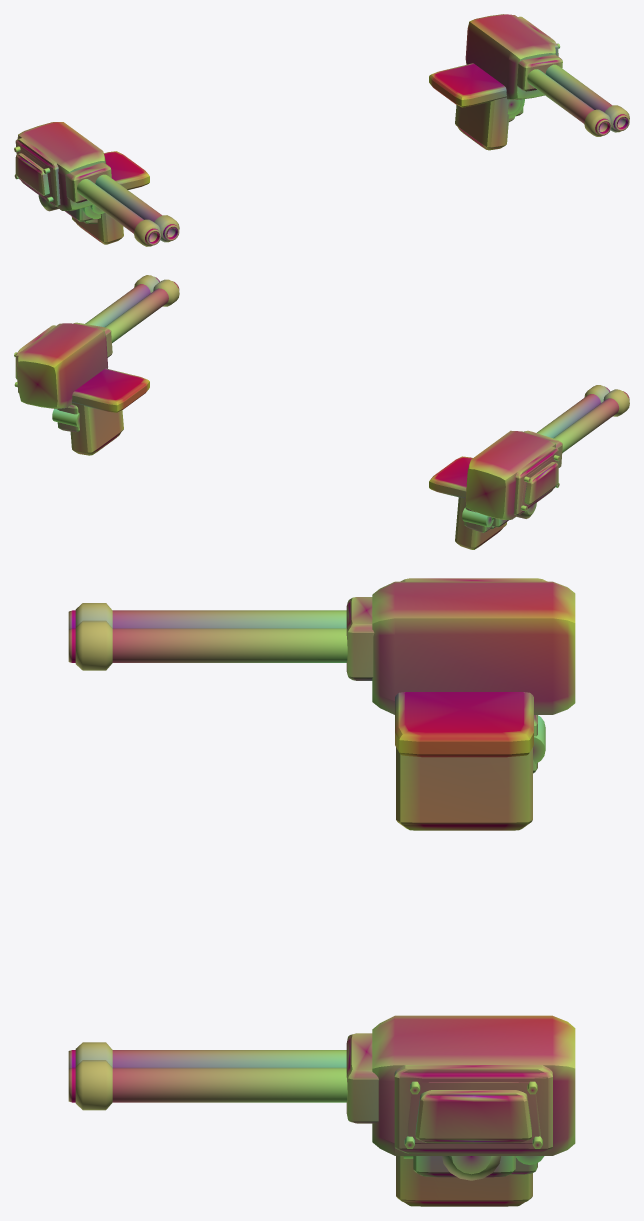
Rendered from llm_gen_shoulder_pods_085_223267.glb.
The picture shows the model from 3 angles, top to bottom: view 1: azimuth 30°, elevation 25°; view 2: azimuth 150°, elevation 25°; view 3: azimuth 270°, elevation 25°; orthographic projection. The views are drawn at different scales.
Visible parts, largest first — view 1: adapter_shoulder_yoke_r, cannon_cradle_1_adapter_dark_r, cannon_cradle_1_adapter_dark_l, adapter_shoulder_yoke_l, beam_barrel_out_4_barrel_metal_l, beam_barrel_in_3_barrel_metal_r, beam_barrel_in_3_barrel_metal_l, beam_barrel_out_4_barrel_metal_r, cannon_side_shroud_blue_8_cobalt_anodized_l, adapter_sub_heatsink_bezel_dark_7_adapter_dark_l, adapter_sub_mantlet_dark_2_adapter_dark_l, adapter_sub_mantlet_dark_2_adapter_dark_r (+4 smaller); view 2: cannon_cradle_1_adapter_dark_r, cannon_cradle_1_adapter_dark_l, adapter_shoulder_yoke_r, adapter_shoulder_yoke_l, beam_barrel_out_4_barrel_metal_l, beam_barrel_in_3_barrel_metal_r, cannon_side_shroud_blue_8_cobalt_anodized_l, beam_barrel_in_3_barrel_metal_l, beam_barrel_out_4_barrel_metal_r, adapter_sub_heatsink_bezel_dark_7_adapter_dark_l; view 3: cannon_cradle_1_adapter_dark_l, adapter_shoulder_yoke_l, cannon_cradle_1_adapter_dark_r, beam_barrel_out_4_barrel_metal_r, beam_barrel_in_3_barrel_metal_l, cannon_side_shroud_blue_8_cobalt_anodized_r, adapter_sub_heatsink_bezel_dark_7_adapter_dark_r, adapter_shoulder_yoke_r, beam_barrel_out_4_barrel_metal_l, beam_barrel_in_3_barrel_metal_r, adapter_sub_mantlet_dark_2_adapter_dark_r, adapter_sub_mantlet_dark_2_adapter_dark_l (+3 smaller).
Boxes of the visible parts, <box> form: adapter_shoulder_yoke_r: <box>429,63,524,150</box>; cannon_cradle_1_adapter_dark_r: <box>465,14,556,99</box>; cannon_cradle_1_adapter_dark_l: <box>17,122,106,210</box>; adapter_shoulder_yoke_l: <box>65,151,149,244</box>; beam_barrel_out_4_barrel_metal_l: <box>77,179,161,245</box>; beam_barrel_in_3_barrel_metal_r: <box>527,69,611,135</box>; beam_barrel_in_3_barrel_metal_l: <box>95,174,179,240</box>; beam_barrel_out_4_barrel_metal_r: <box>545,64,629,130</box>; cannon_side_shroud_blue_8_cobalt_anodized_l: <box>14,146,53,202</box>; adapter_sub_heatsink_bezel_dark_7_adapter_dark_l: <box>15,138,60,206</box>; adapter_sub_mantlet_dark_2_adapter_dark_l: <box>65,162,111,203</box>; adapter_sub_mantlet_dark_2_adapter_dark_r: <box>517,54,562,91</box>; cannon_cradle_1_adapter_dark_r: <box>17,323,107,408</box>; cannon_cradle_1_adapter_dark_l: <box>465,430,555,519</box>; adapter_shoulder_yoke_r: <box>70,368,149,455</box>; adapter_shoulder_yoke_l: <box>429,456,508,549</box>; beam_barrel_out_4_barrel_metal_l: <box>553,391,629,452</box>; beam_barrel_in_3_barrel_metal_r: <box>105,281,179,342</box>; cannon_side_shroud_blue_8_cobalt_anodized_l: <box>520,455,560,511</box>; beam_barrel_in_3_barrel_metal_l: <box>537,386,610,437</box>; beam_barrel_out_4_barrel_metal_r: <box>85,277,159,327</box>; adapter_sub_heatsink_bezel_dark_7_adapter_dark_l: <box>513,446,558,515</box>; cannon_cradle_1_adapter_dark_l: <box>372,581,575,714</box>; adapter_shoulder_yoke_l: <box>395,692,533,830</box>; cannon_cradle_1_adapter_dark_r: <box>372,1015,575,1155</box>; beam_barrel_out_4_barrel_metal_r: <box>68,1067,347,1102</box>; beam_barrel_in_3_barrel_metal_l: <box>68,628,347,662</box>; cannon_side_shroud_blue_8_cobalt_anodized_r: <box>404,1081,542,1148</box>; adapter_sub_heatsink_bezel_dark_7_adapter_dark_r: <box>394,1065,552,1153</box>; adapter_shoulder_yoke_r: <box>396,1156,532,1206</box>; beam_barrel_out_4_barrel_metal_l: <box>68,610,346,628</box>; beam_barrel_in_3_barrel_metal_r: <box>68,1050,346,1068</box>; adapter_sub_mantlet_dark_2_adapter_dark_r: <box>346,1033,378,1123</box>; adapter_sub_mantlet_dark_2_adapter_dark_l: <box>346,597,374,680</box>.
Size of the model in its own units: 112 by 20.42 by 47.36.
